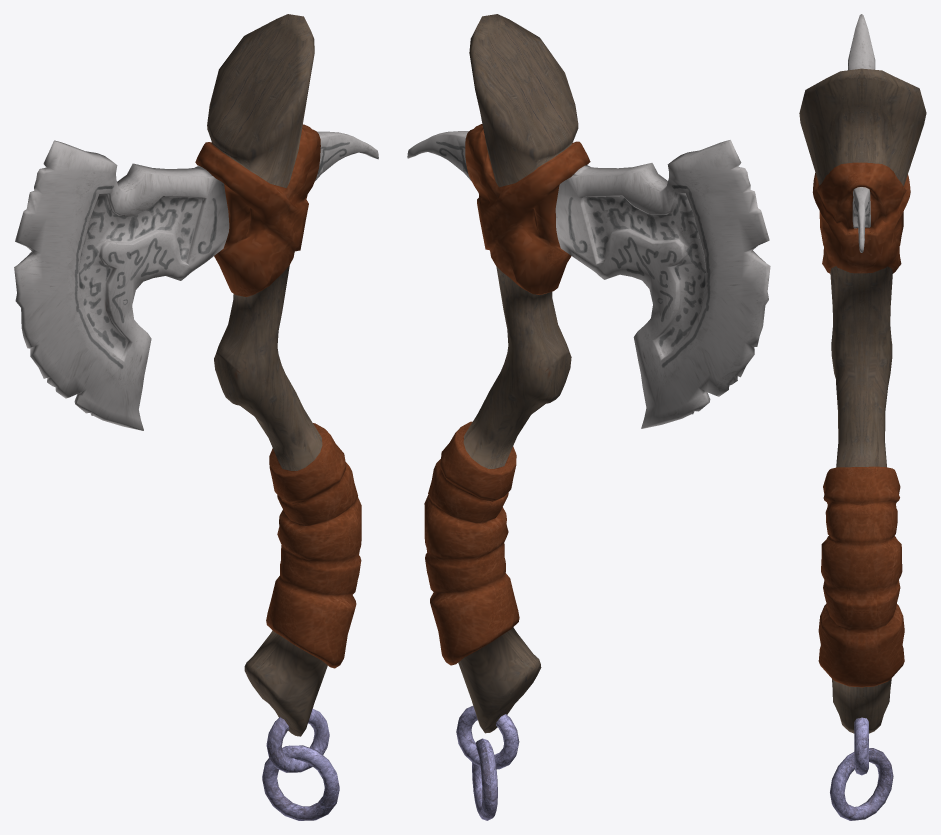
File: Low_Poly_Axe.fbx
3 views of the same model, side by side, from view 1: azimuth 30°, elevation 25°; view 2: azimuth 150°, elevation 25°; view 3: azimuth 270°, elevation 25° (orthographic). The views are drawn at different scales.
Parts seen in each view (by area): view 1: Axe_low_poly; view 2: Axe_low_poly; view 3: Axe_low_poly.
Boxes of the visible parts, <box> form: Axe_low_poly: <box>14,14,378,820</box>; Axe_low_poly: <box>407,14,770,820</box>; Axe_low_poly: <box>799,14,926,820</box>.
Bounding box in the file's own units: 106 × 224 × 34.29.
Materials: 2 (2 with a texture image).
